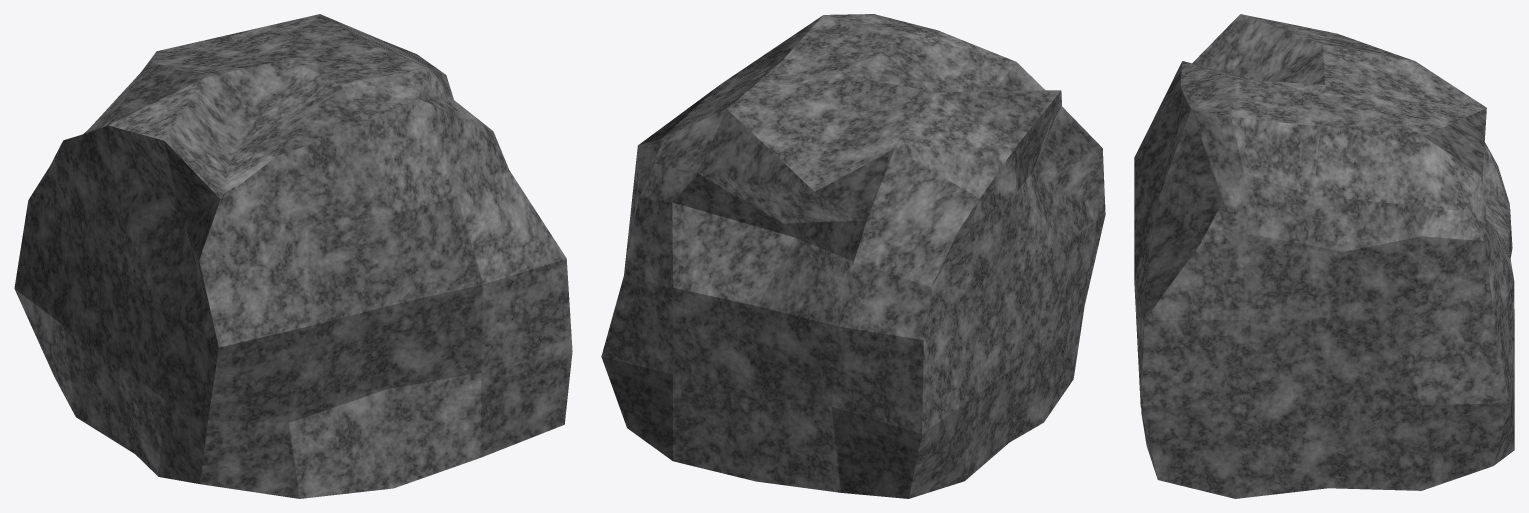
The model's file is rock.glb.
3 renders of one model, left to right at view 1: azimuth 30°, elevation 25°; view 2: azimuth 150°, elevation 25°; view 3: azimuth 270°, elevation 25°, orthographic. The views are drawn at different scales.
Parts seen in each view (by area): view 1: Cube; view 2: Cube; view 3: Cube.
Part boxes in pixels (x1,y1,x2,y2): Cube: (14,14,572,498); Cube: (601,14,1105,498); Cube: (1134,14,1514,498).
Bounding box in the file's own units: 2.06 × 2 × 2.04.
Materials: 1 (1 with a texture image).
